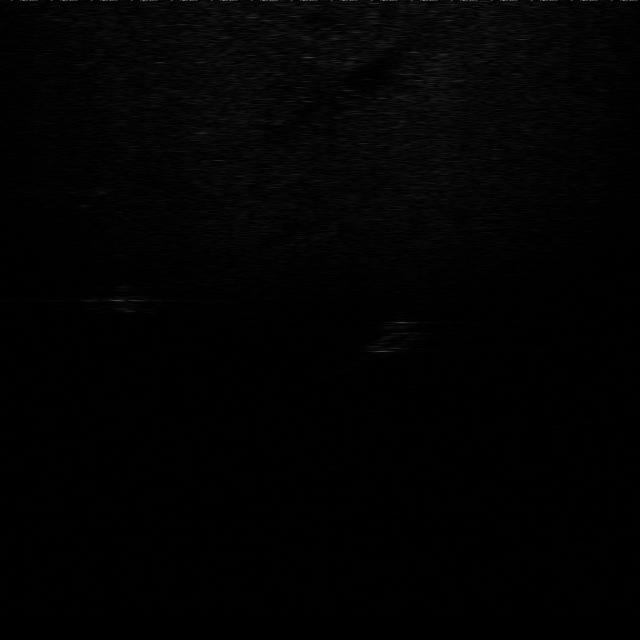circle cage: (98, 285, 160, 316)
tyre: (364, 314, 431, 357)
